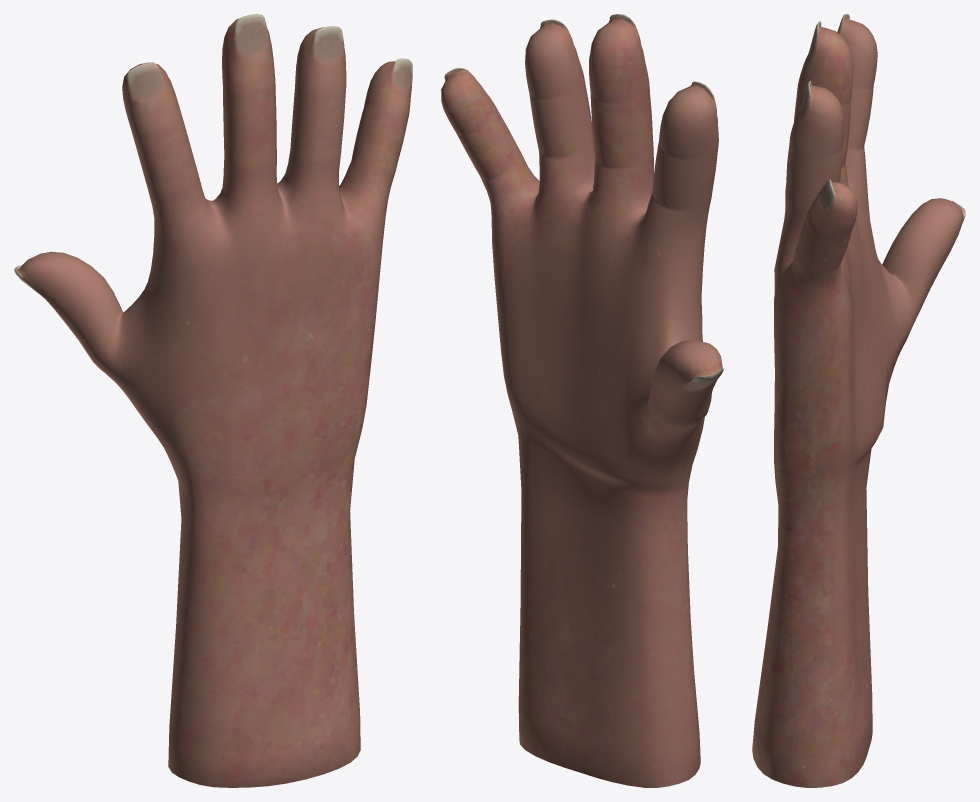
File: Hand.fbx
The picture shows the model from 3 angles, left to right: view 1: azimuth 30°, elevation 25°; view 2: azimuth 150°, elevation 25°; view 3: azimuth 270°, elevation 25°; orthographic projection. The views are drawn at different scales.
Visible parts, largest first — view 1: Hand; view 2: Hand; view 3: Hand.
Part boxes in pixels (left/top/right/bottom): Hand: left=14, top=14, right=412, bottom=787; Hand: left=441, top=14, right=723, bottom=787; Hand: left=752, top=14, right=965, bottom=787.
Size of the model in its own units: 0.198 by 0.4171 by 0.1127.
